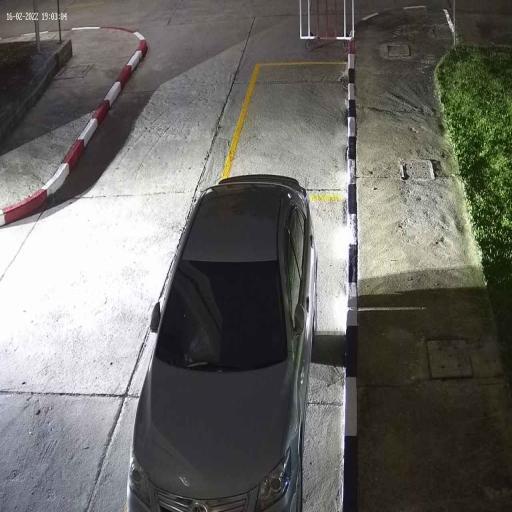car: (124, 171, 320, 512)
